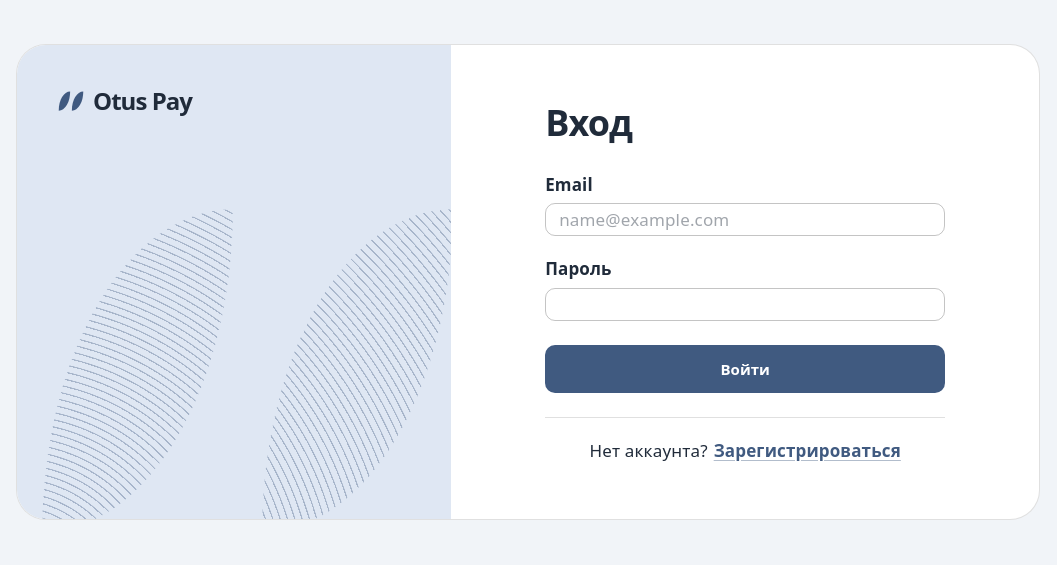
it: LoginPage › shows validation error for empty password
Click the button "Войти" at [745, 369], box [545,345,945,393]
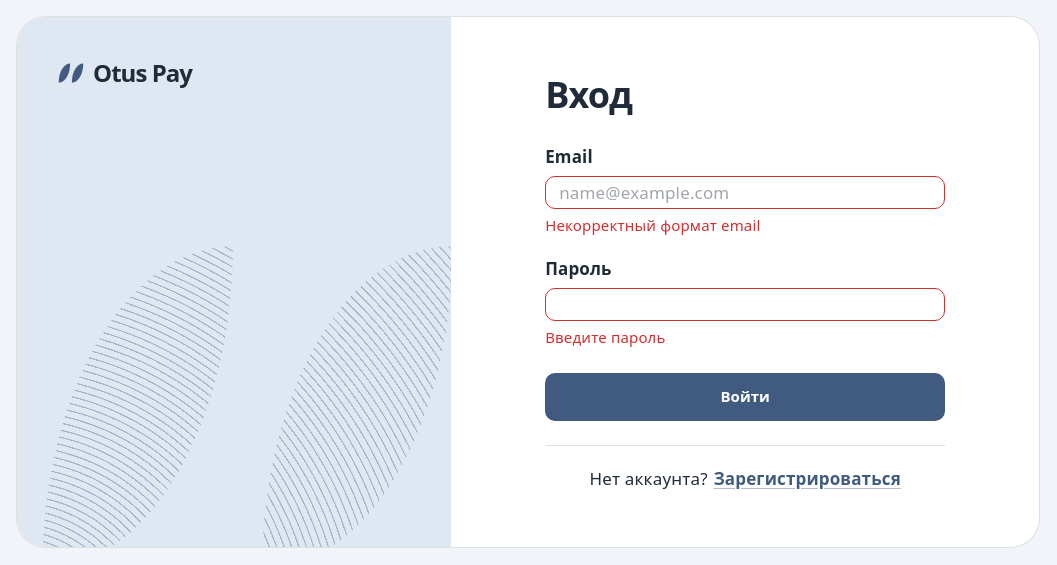
Now the text "Введите пароль" is shown, box [545,327,666,347]
